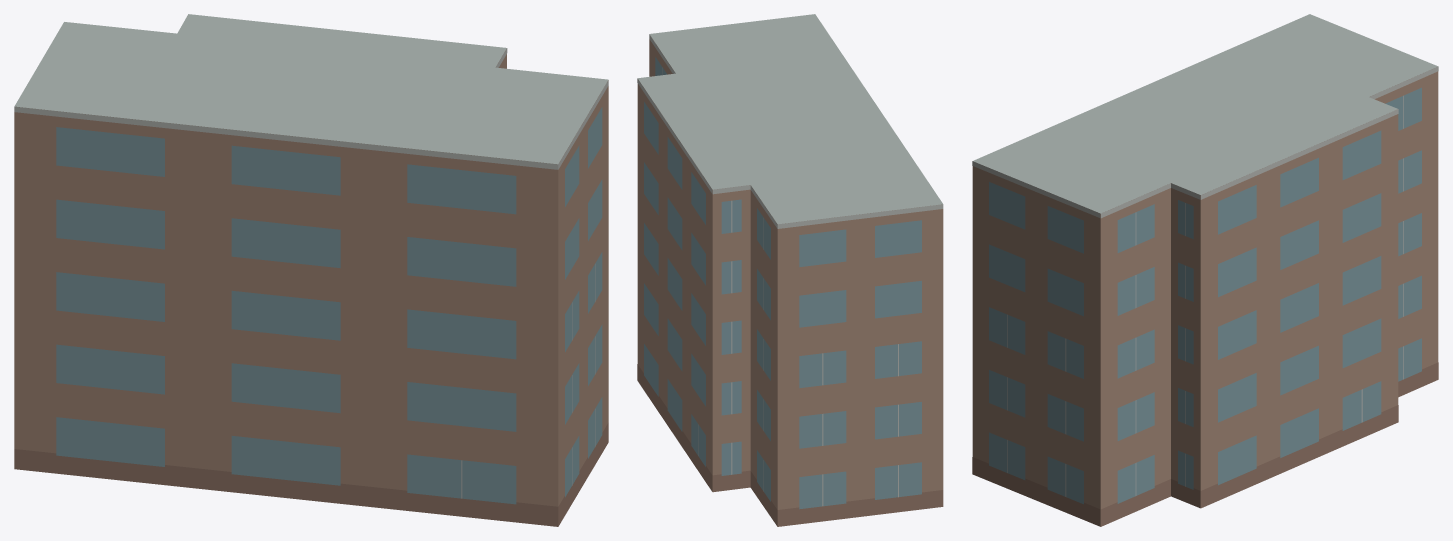
File: survey-upis-32761976.glb
3 views of the same model, side by side, from view 1: azimuth 30°, elevation 25°; view 2: azimuth 150°, elevation 25°; view 3: azimuth 270°, elevation 25° (orthographic). The views are drawn at different scales.
Parts seen in each view (by area): view 1: survey-upis-32761976.tmp; view 2: survey-upis-32761976.tmp; view 3: survey-upis-32761976.tmp.
Part boxes in pixels (box(x1,y1,x2,y2)): survey-upis-32761976.tmp: box(14, 14, 608, 526); survey-upis-32761976.tmp: box(637, 14, 943, 526); survey-upis-32761976.tmp: box(972, 14, 1438, 526).
Bounding box in the file's own units: 21.66 × 15.85 × 21.37.
